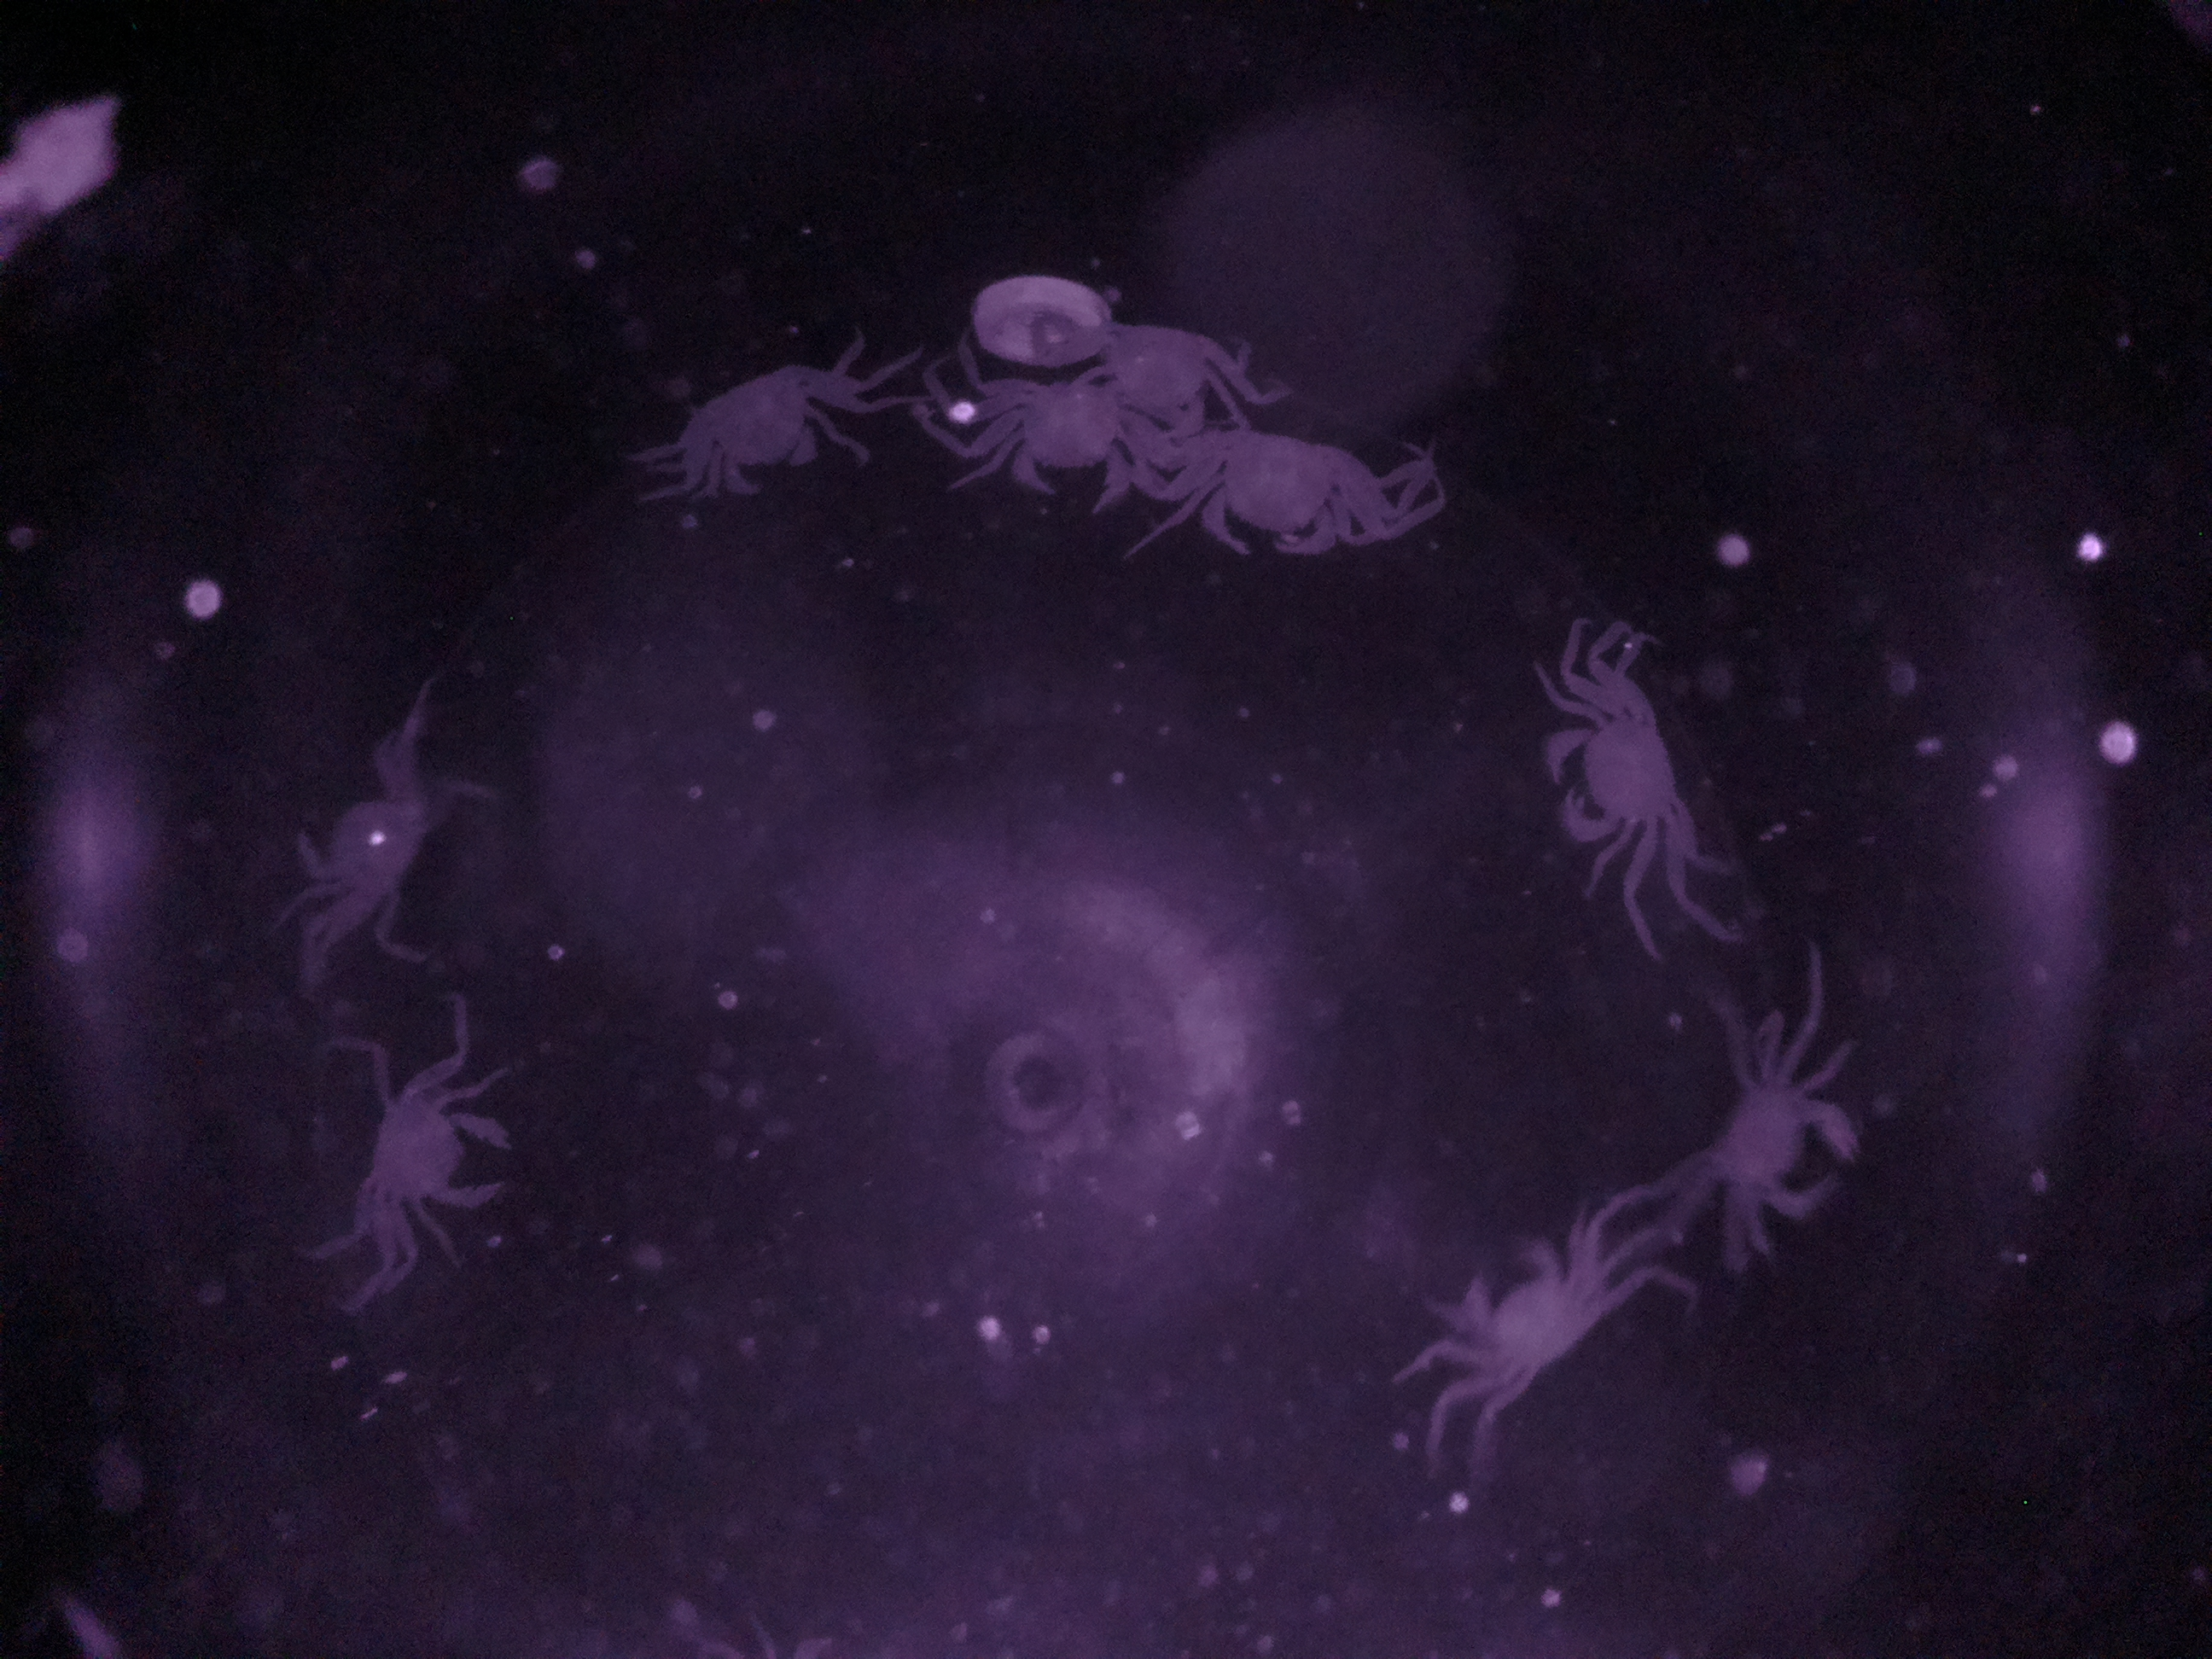Crab: (1527, 655, 1717, 889), (1165, 401, 1390, 572), (333, 1068, 542, 1237)
